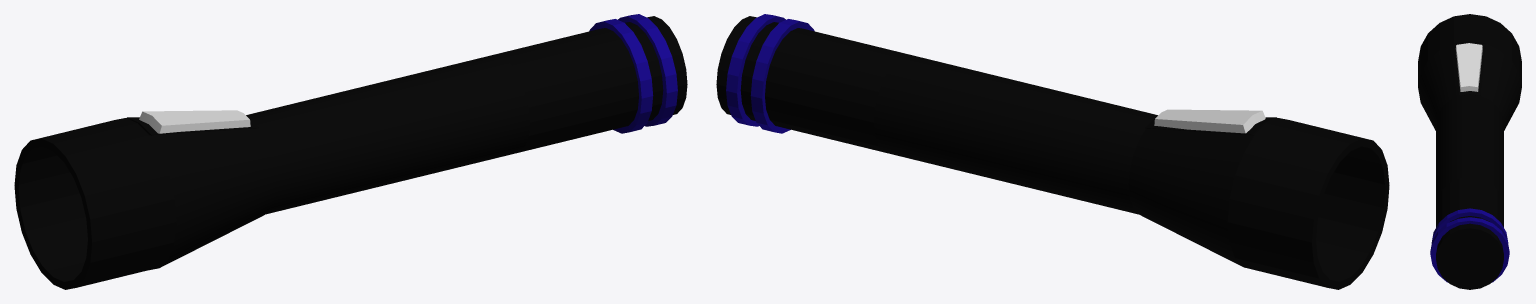
Rendered from flashlight.fbx.
The picture shows the model from 3 angles, left to right: view 1: azimuth 30°, elevation 25°; view 2: azimuth 150°, elevation 25°; view 3: azimuth 270°, elevation 25°; orthographic projection. The views are drawn at different scales.
Parts seen in each view (by area): view 1: pCylinder1; view 2: pCylinder1; view 3: pCylinder1.
Part boxes in pixels (x1,y1,x2,y2): pCylinder1: [14, 14, 687, 289]; pCylinder1: [716, 14, 1389, 289]; pCylinder1: [1418, 14, 1521, 289].
Size of the model in its own units: 13.78 by 3.14 by 3.05.
